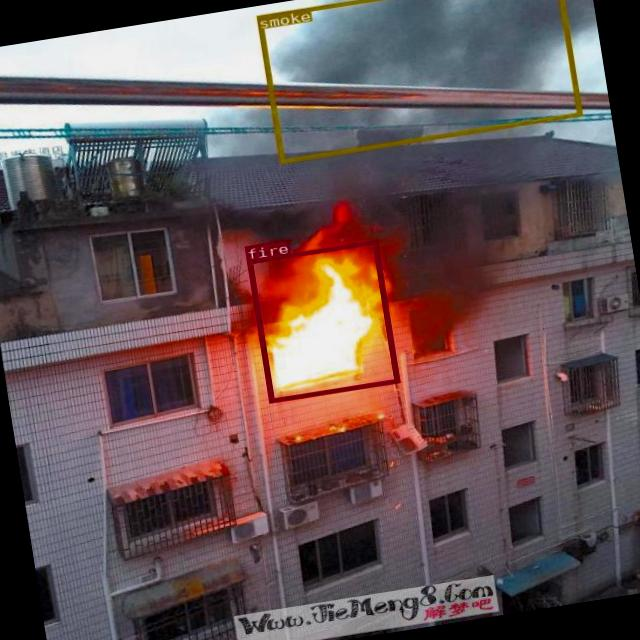fire: (246, 240, 399, 402)
smoke: (256, 0, 582, 163)
